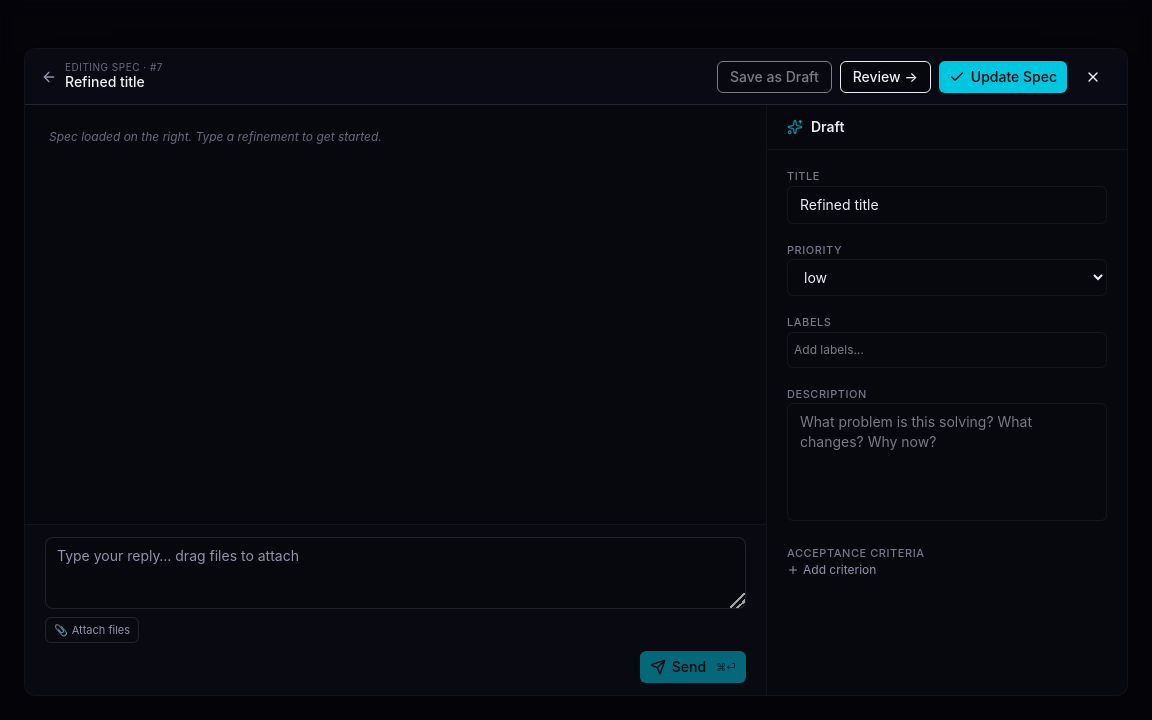
Test: ExploreSpecShell — Review overlay wiring › edit mode: opens Review with editTicket baseline and Update Spec label
Click the button with test id "explore-spec-review". click: (885, 76)
box: [840,60,931,92]
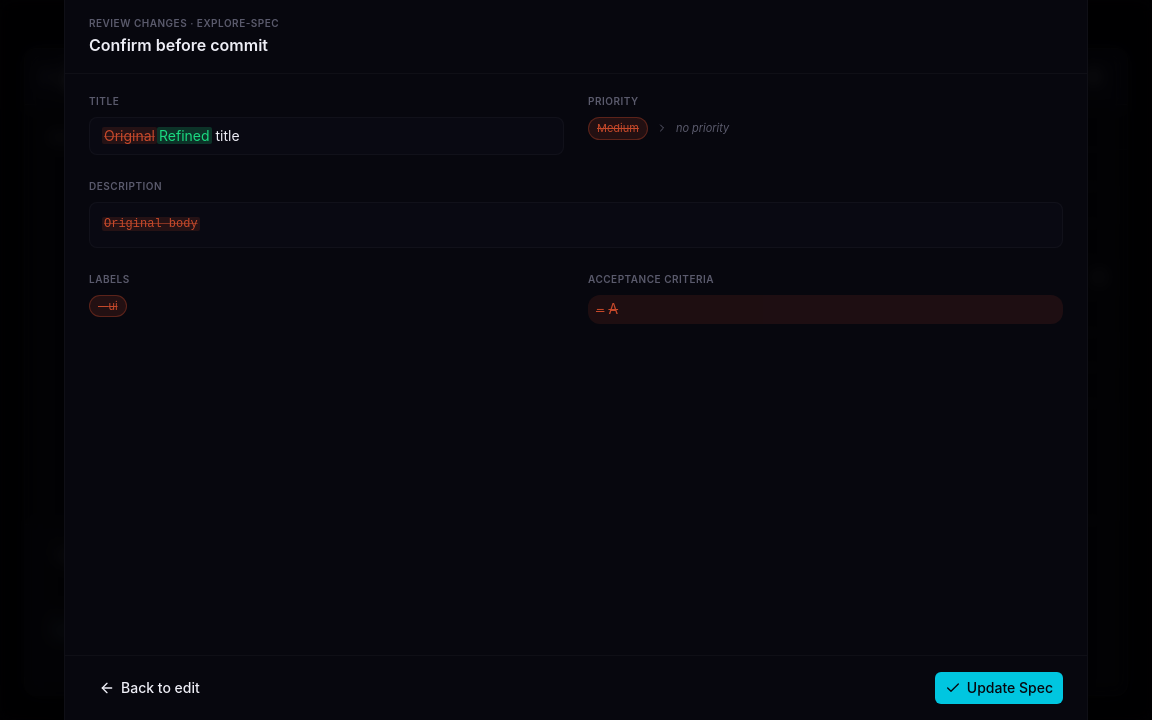
Expected: the dialog with test id "explore-review-overlay" is shown
Expected: the button with test id "review-commit" reads "Update Spec", [935,672,1063,704]
